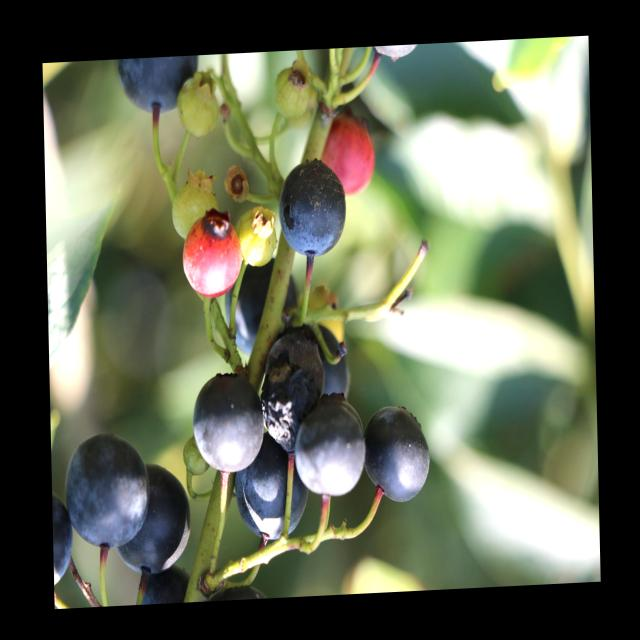blueberry: (67, 430, 151, 552), (114, 457, 197, 576), (224, 255, 306, 361), (275, 153, 351, 262), (293, 392, 363, 504), (234, 436, 306, 544), (363, 397, 435, 505), (190, 370, 262, 475), (260, 336, 328, 447), (114, 55, 195, 117), (52, 498, 73, 586)
blueberry-halfripe: (180, 211, 242, 306), (320, 112, 377, 198)
blueberry-unripe: (170, 172, 217, 243), (173, 72, 220, 140), (235, 201, 279, 272), (268, 68, 313, 124)
